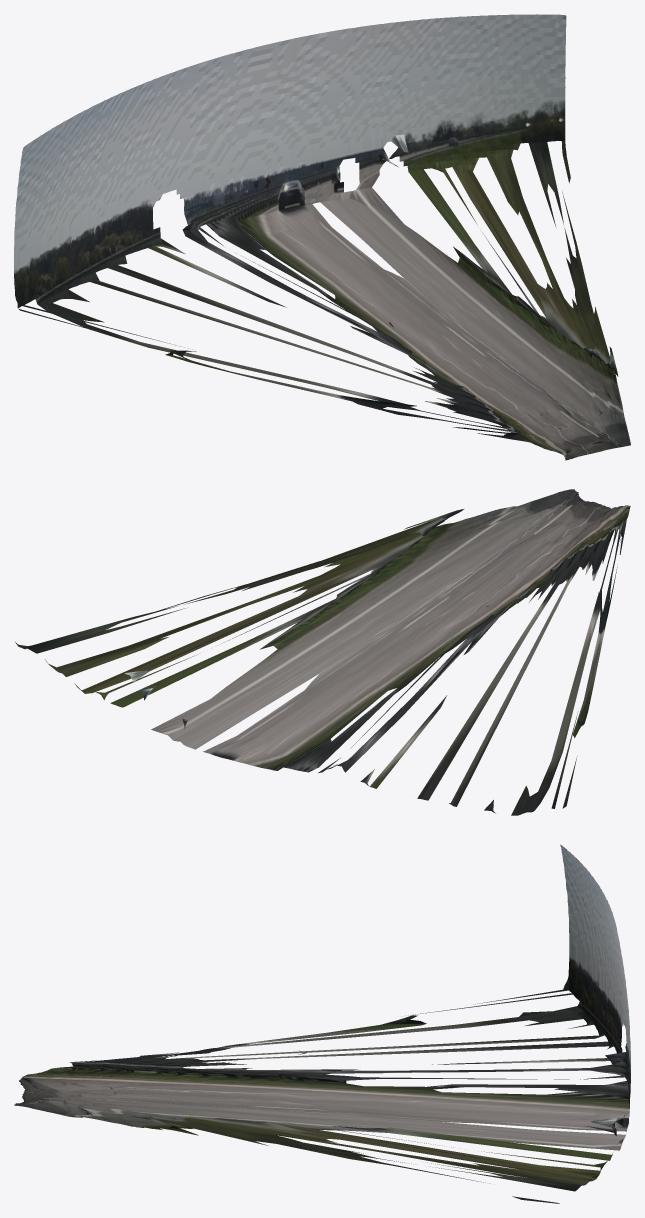
The picture shows the model from 3 angles, top to bottom: view 1: azimuth 30°, elevation 25°; view 2: azimuth 150°, elevation 25°; view 3: azimuth 270°, elevation 25°; orthographic projection. The views are drawn at different scales.
Parts seen in each view (by area): view 1: defaultobject; view 2: defaultobject; view 3: defaultobject.
Part boxes in pixels (<box>): defaultobject: <box>14,14,630,460</box>; defaultobject: <box>15,489,630,815</box>; defaultobject: <box>14,844,630,1203</box>.
Size of the model in its own units: 41.16 by 13.38 by 44.82.
1 material, 1 textured.
